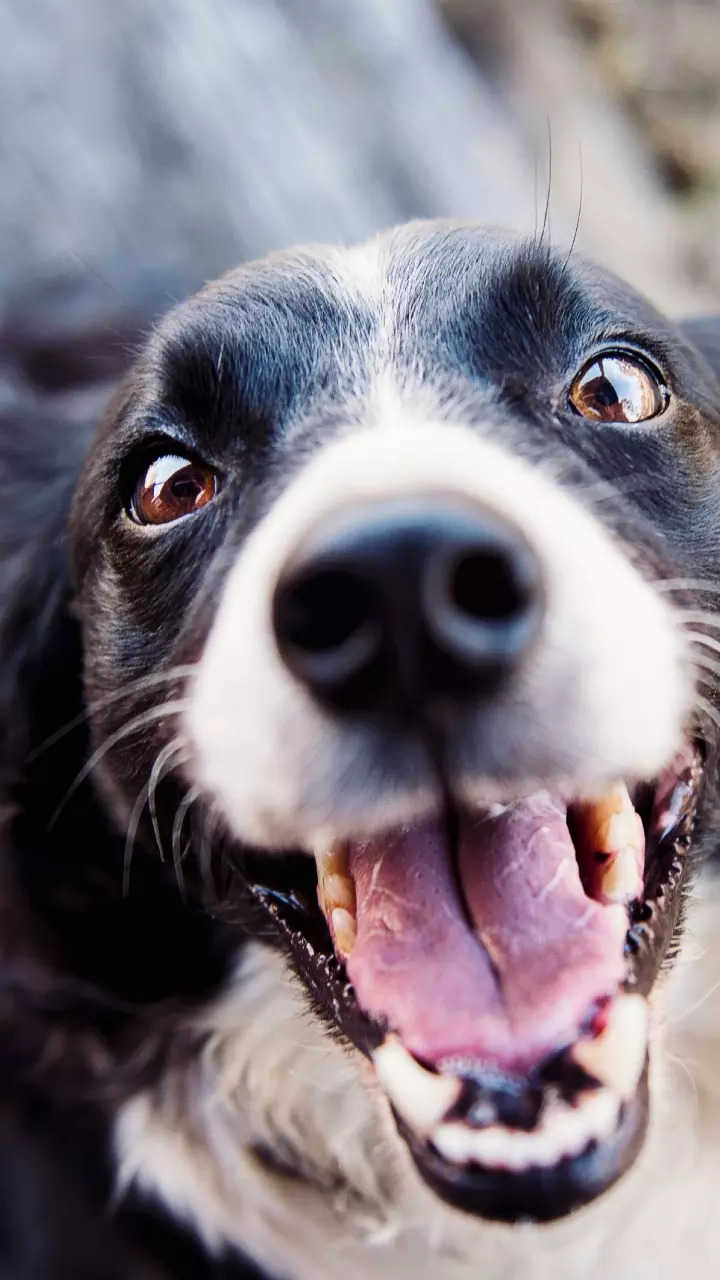dog: (108, 243, 664, 1273)
